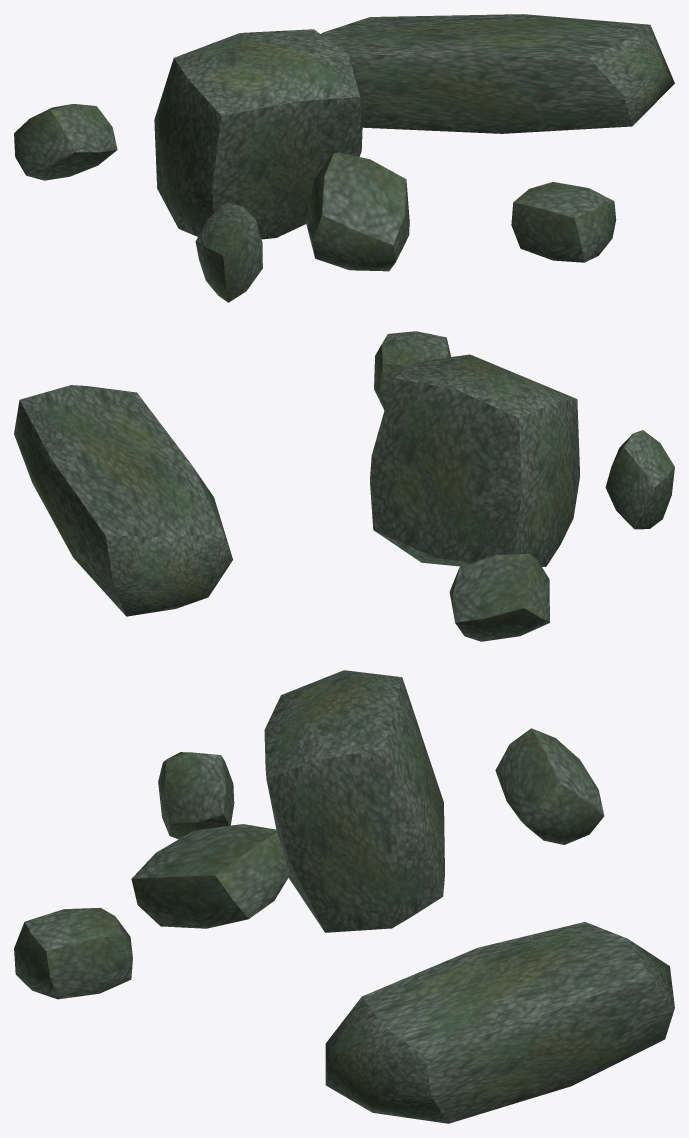
The model's file is ruins04.obj.
3 views of the same model, one above another, from view 1: azimuth 30°, elevation 25°; view 2: azimuth 150°, elevation 25°; view 3: azimuth 270°, elevation 25° (orthographic). The views are drawn at different scales.
Parts seen in each view (by area): view 1: Box04, Box03, Duplicate12, Box06, Duplicate10, Duplicate11; view 2: Box03, Box04, Duplicate10, Duplicate11, Box06; view 3: Box04, Box03, Duplicate12, Box06, Duplicate10, Duplicate11.
Boxes of the visible parts, x1,y1,x2,y2 form: Box04: [321, 14, 674, 133]; Box03: [154, 29, 363, 239]; Duplicate12: [306, 152, 409, 271]; Box06: [511, 182, 616, 262]; Duplicate10: [14, 104, 117, 180]; Duplicate11: [195, 202, 262, 302]; Box03: [370, 354, 579, 566]; Box04: [14, 385, 232, 616]; Duplicate10: [449, 553, 549, 641]; Duplicate11: [605, 430, 674, 529]; Box06: [374, 331, 450, 410]; Box04: [325, 922, 674, 1123]; Box03: [264, 670, 444, 932]; Duplicate12: [131, 824, 289, 928]; Box06: [14, 907, 132, 999]; Duplicate10: [495, 728, 604, 844]; Duplicate11: [158, 752, 234, 839].
Size of the model in its own units: 72.69 by 24.26 by 62.47.
